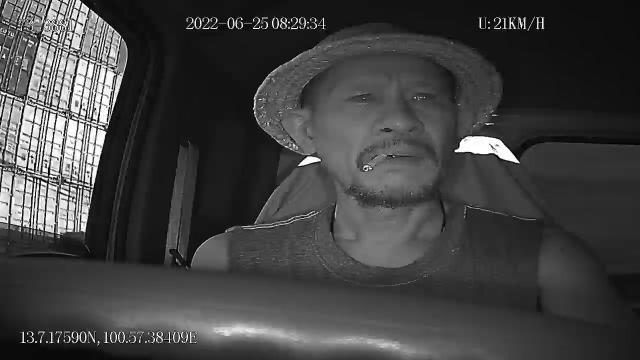SafeDriving: (342, 82, 382, 110), (403, 84, 440, 110)
Smoking: (362, 151, 388, 173)
